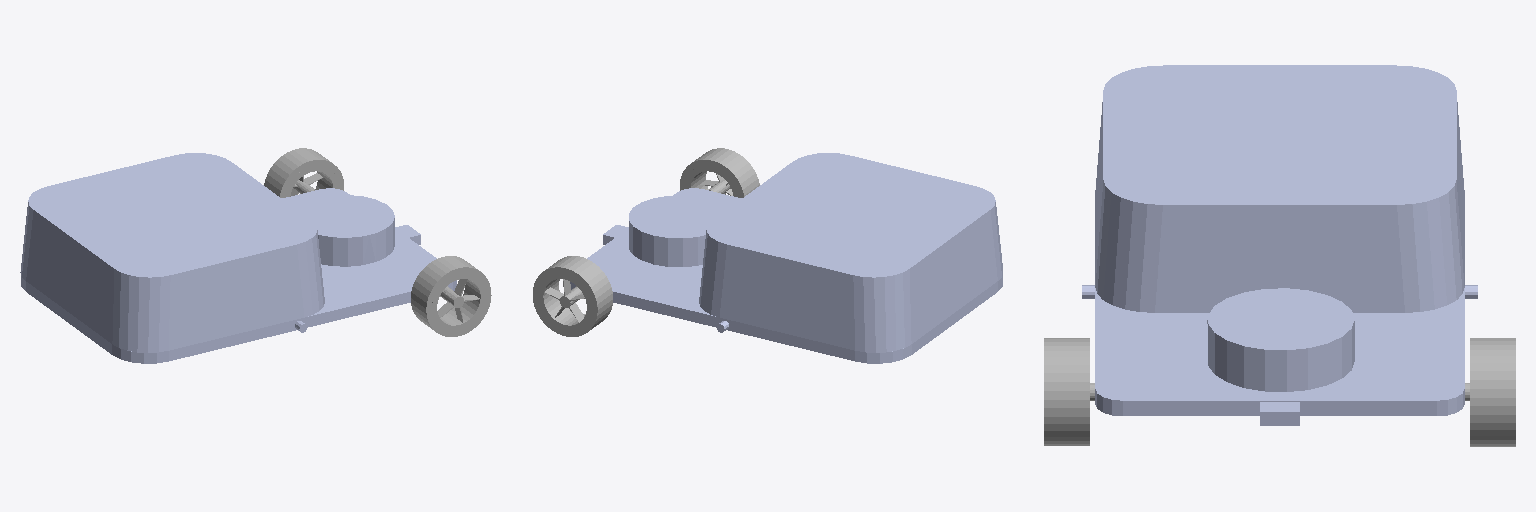
URDF robot description (robo):
<?xml version="1.0" encoding="utf-8"?>
<!-- This URDF was automatically created by SolidWorks to URDF Exporter! Originally created by [author] ([email redacted]) 
     Commit Version: 1.6.0-4-g7f85cfe  Build Version: 1.6.7995.38578
     For more information, please see http://wiki.ros.org/sw_urdf_exporter -->
<robot
  name="robo">
  <link
    name="base_link">
    <inertial>
      <origin
        xyz="-0.0323530900851333 8.81623232662221E-05 0.0217291276097757"
        rpy="0 0 0" />
      <mass
        value="3.12574344823051" />
      <inertia
        ixx="0.01018601448917"
        ixy="-8.3379603233026E-06"
        ixz="-0.000407909085553483"
        iyy="0.0140976172418165"
        iyz="-1.47428407923173E-06"
        izz="0.0225609670538444" />
    </inertial>
    <visual>
      <origin
        xyz="0 0 0"
        rpy="0 0 0" />
      <geometry>
        <mesh
          filename="package://robo/meshes/base_link.STL" />
      </geometry>
      <material
        name="">
        <color
          rgba="0.792156862745098 0.819607843137255 0.933333333333333 1" />
      </material>
    </visual>
    <collision>
      <origin
        xyz="0 0 0"
        rpy="0 0 0" />
      <geometry>
        <mesh
          filename="package://robo/meshes/base_link.STL" />
      </geometry>
    </collision>
  </link>
  <link
    name="left_wheel">
    <inertial>
      <origin
        xyz="2.77555756156289E-17 -0.0124818923568898 0"
        rpy="0 0 0" />
      <mass
        value="0.0154842443751589" />
      <inertia
        ixx="6.3294960600419E-06"
        ixy="1.84309578808181E-21"
        ixz="-1.52188572090098E-21"
        iyy="1.06002362306982E-05"
        iyz="-8.77534970224043E-22"
        izz="6.3294960600419E-06" />
    </inertial>
    <visual>
      <origin
        xyz="0 0 0"
        rpy="0 0 0" />
      <geometry>
        <mesh
          filename="package://robo/meshes/left_wheel.STL" />
      </geometry>
      <material
        name="">
        <color
          rgba="0.752941176470588 0.752941176470588 0.752941176470588 1" />
      </material>
    </visual>
    <collision>
      <origin
        xyz="0 0 0"
        rpy="0 0 0" />
      <geometry>
        <mesh
          filename="package://robo/meshes/left_wheel.STL" />
      </geometry>
    </collision>
  </link>
  <joint
    name="left_wheel_joint"
    type="continuous">
    <origin
      xyz="0.13952 0.12966 -0.0046005"
      rpy="0 0 0" />
    <parent
      link="base_link" />
    <child
      link="left_wheel" />
    <axis
      xyz="0 1 0" />
    <limit
      effort="10"
      velocity="10" />
    <dynamics
      damping="0.1"
      friction="0.1" />
  </joint>
  <link
    name="right_wheel">
    <inertial>
      <origin
        xyz="0 0.0124818923568899 0"
        rpy="0 0 0" />
      <mass
        value="0.0154842443751589" />
      <inertia
        ixx="6.32949606004193E-06"
        ixy="1.42308362869298E-22"
        ixz="1.11916568456726E-21"
        iyy="1.06002362306982E-05"
        iyz="-7.26023017715489E-22"
        izz="6.32949606004193E-06" />
    </inertial>
    <visual>
      <origin
        xyz="0 0 0"
        rpy="0 0 0" />
      <geometry>
        <mesh
          filename="package://robo/meshes/right_wheel.STL" />
      </geometry>
      <material
        name="">
        <color
          rgba="0.752941176470588 0.752941176470588 0.752941176470588 1" />
      </material>
    </visual>
    <collision>
      <origin
        xyz="0 0 0"
        rpy="0 0 0" />
      <geometry>
        <mesh
          filename="package://robo/meshes/right_wheel.STL" />
      </geometry>
    </collision>
  </link>
  <joint
    name="right_wheel_joint"
    type="continuous">
    <origin
      xyz="0.13952 -0.12954 -0.0046005"
      rpy="0 0 0" />
    <parent
      link="base_link" />
    <child
      link="right_wheel" />
    <axis
      xyz="0 -1 0" />
    <limit
      effort="10"
      velocity="10" />
    <dynamics
      damping="0.1"
      friction="0.1" />
  </joint>
</robot>

--- Facts derived from the render (not from the file) ---
Views: 3 orthographic renders of the robot side by side, from view 1: azimuth 30°, elevation 25°; view 2: azimuth 150°, elevation 25°; view 3: azimuth 270°, elevation 25°.
Robot: robo — 3 links, 2 joints (2 continuous); root link base_link; default pose: all joints at 0.
Visible links, largest first — view 1: base_link, right_wheel, left_wheel; view 2: base_link, left_wheel, right_wheel; view 3: base_link, left_wheel, right_wheel.
Link boxes in pixels (x1,y1,x2,y2): base_link: (20,153,456,363); right_wheel: (411,256,491,336); left_wheel: (264,148,343,197); base_link: (570,153,1002,363); left_wheel: (533,256,612,336); right_wheel: (680,148,759,197); base_link: (1082,65,1477,425); left_wheel: (1465,338,1515,446); right_wheel: (1044,338,1094,445).
Bounding box of the posed robot: 0.3175 × 0.2592 × 0.1062 m (x, y, z).
3 mesh visuals loaded from 3 distinct referenced files (3 binary STL).